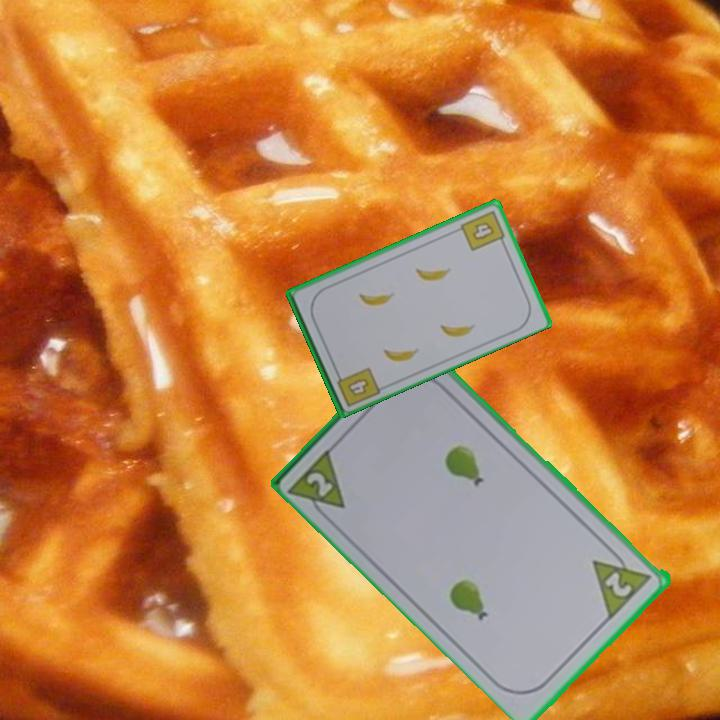2p: (286, 443, 349, 525), (589, 542, 655, 620)
4b: (457, 207, 508, 254), (332, 365, 383, 409)
